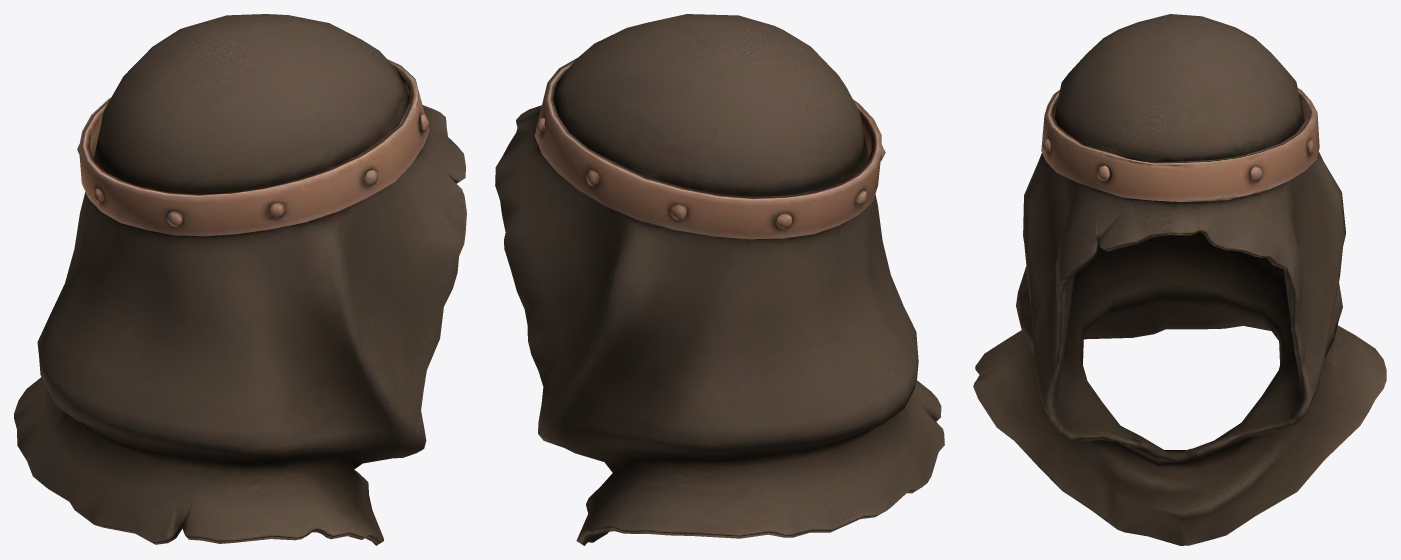
Rendered from necro_helm_copper.glb.
The picture shows the model from 3 angles, left to right: view 1: azimuth 30°, elevation 25°; view 2: azimuth 150°, elevation 25°; view 3: azimuth 270°, elevation 25°; orthographic projection. The views are drawn at different scales.
Visible parts, largest first — view 1: tripo_node_9c3a8fb3-feb7-4529-9527-ee245a926c5c; view 2: tripo_node_9c3a8fb3-feb7-4529-9527-ee245a926c5c; view 3: tripo_node_9c3a8fb3-feb7-4529-9527-ee245a926c5c.
Boxes of the visible parts, x1,y1,x2,y2 form: tripo_node_9c3a8fb3-feb7-4529-9527-ee245a926c5c: (14,14,466,545); tripo_node_9c3a8fb3-feb7-4529-9527-ee245a926c5c: (495,14,944,545); tripo_node_9c3a8fb3-feb7-4529-9527-ee245a926c5c: (973,14,1386,545).
Bounding box in the file's own units: 0.7636 × 0.998 × 0.7949.
Materials: 1 (1 with a texture image).
